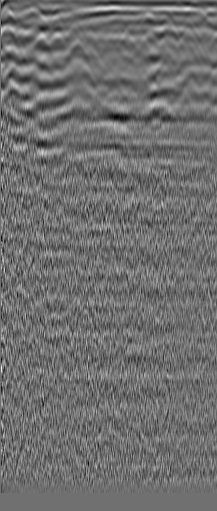오수: (25, 31, 51, 57)
우수: (154, 36, 176, 57)
